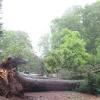Downstairs: (1, 54, 100, 93)
